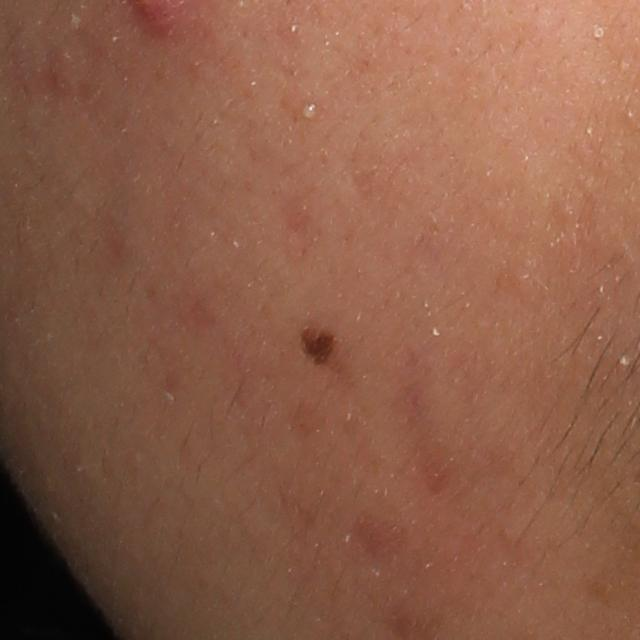nevus: (299, 324, 335, 369)
pustule: (294, 97, 324, 127)
